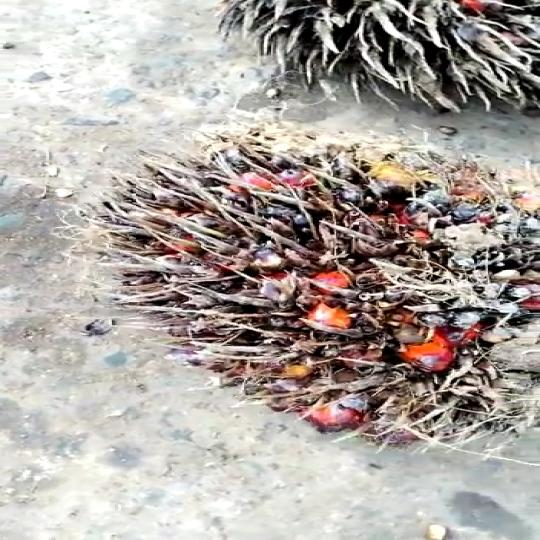terlalu masak: (77, 123, 540, 450)
